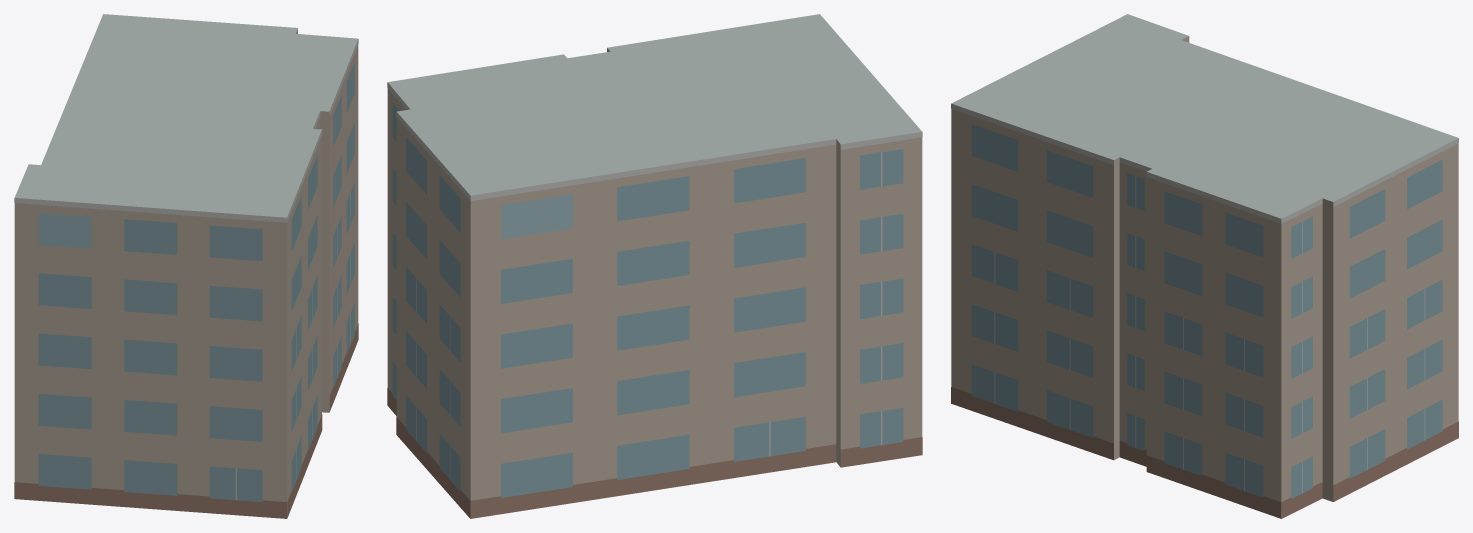
Rendered from survey-upis-32677307.glb.
3 views of the same model, side by side, from view 1: azimuth 30°, elevation 25°; view 2: azimuth 150°, elevation 25°; view 3: azimuth 270°, elevation 25° (orthographic). The views are drawn at different scales.
Parts seen in each view (by area): view 1: survey-upis-32677307.tmp; view 2: survey-upis-32677307.tmp; view 3: survey-upis-32677307.tmp.
Part boxes in pixels (x1,y1,x2,y2): survey-upis-32677307.tmp: (14, 14, 358, 518); survey-upis-32677307.tmp: (387, 14, 922, 518); survey-upis-32677307.tmp: (951, 14, 1458, 518).
Bounding box in the file's own units: 20.86 × 14.25 × 21.85.
